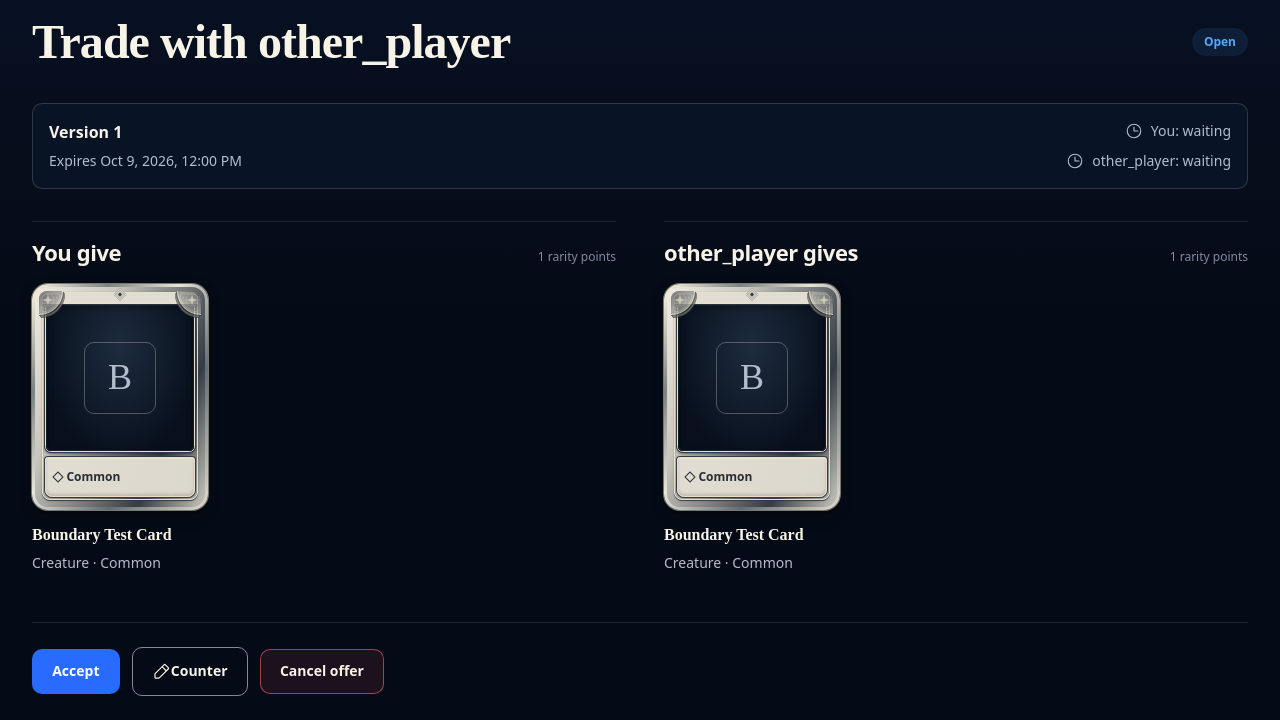
Test case: trade detail action boundaries › cancels the accept popup without sending a command and restores focus
(page scrolled)
Step 1. Click the button "Accept" → (76, 672), box 32,649 -> 120,694
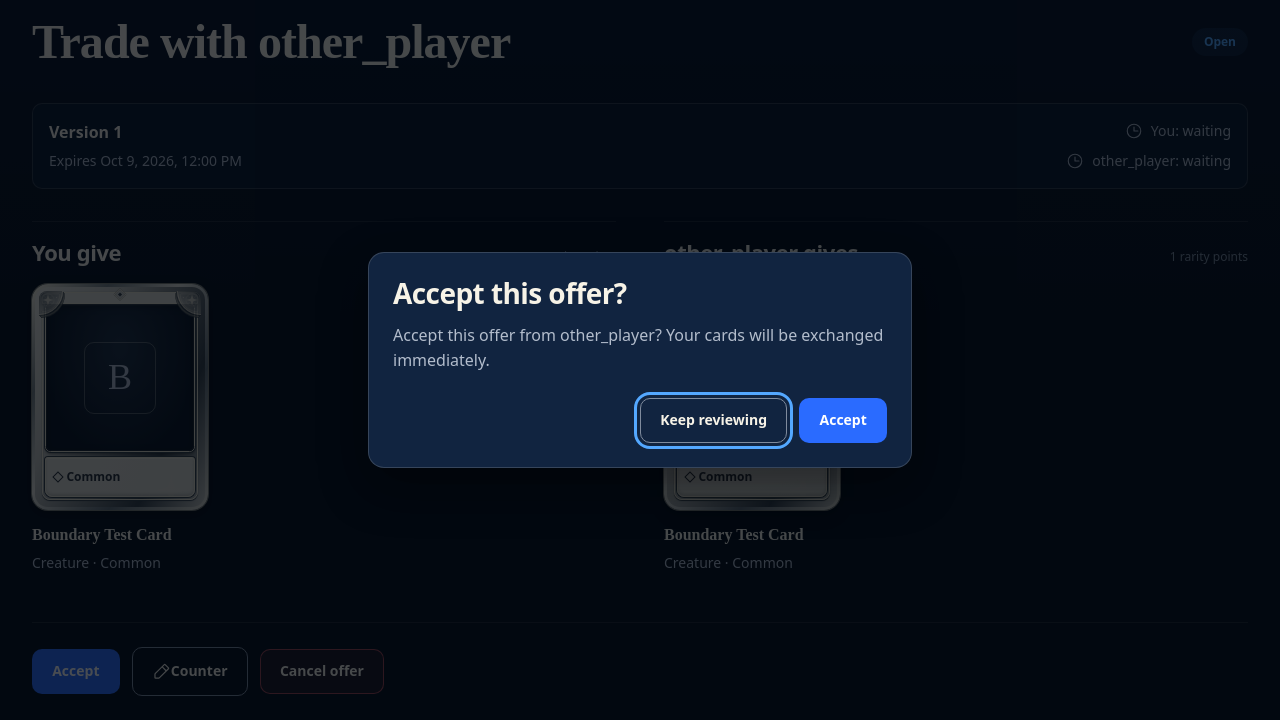
Step 2. Press Escape
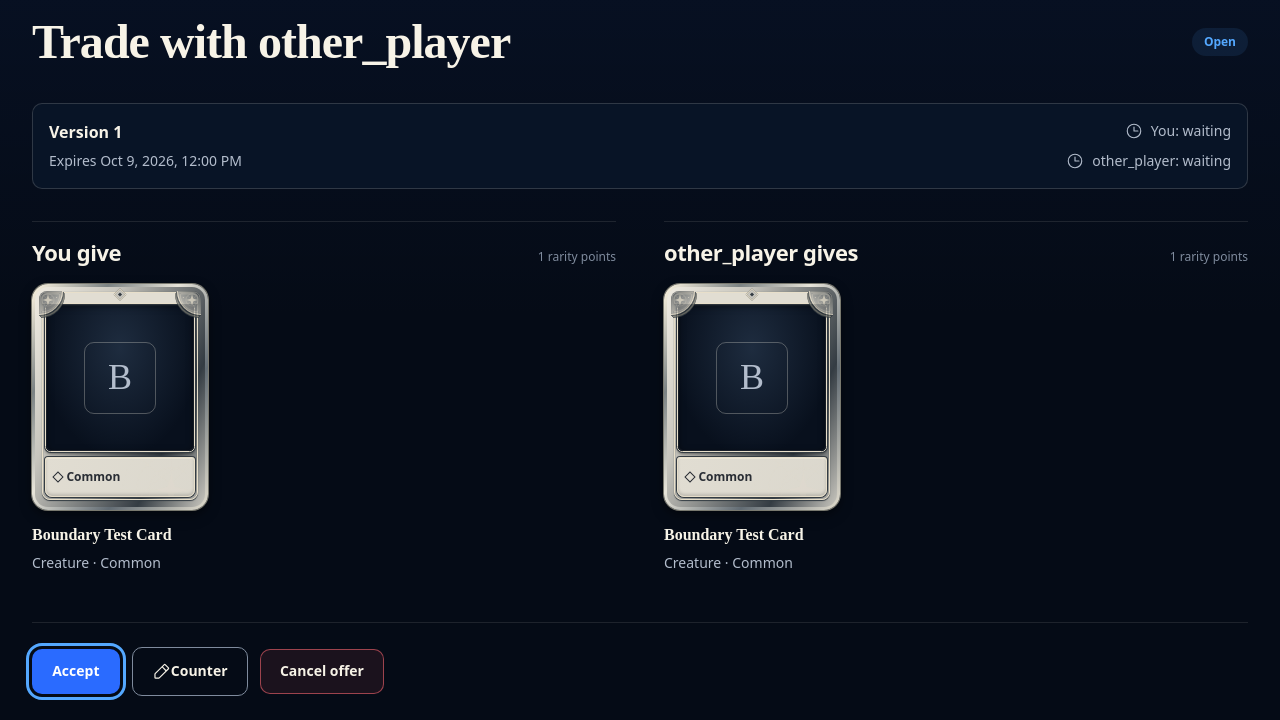
Now the dialog is gone
